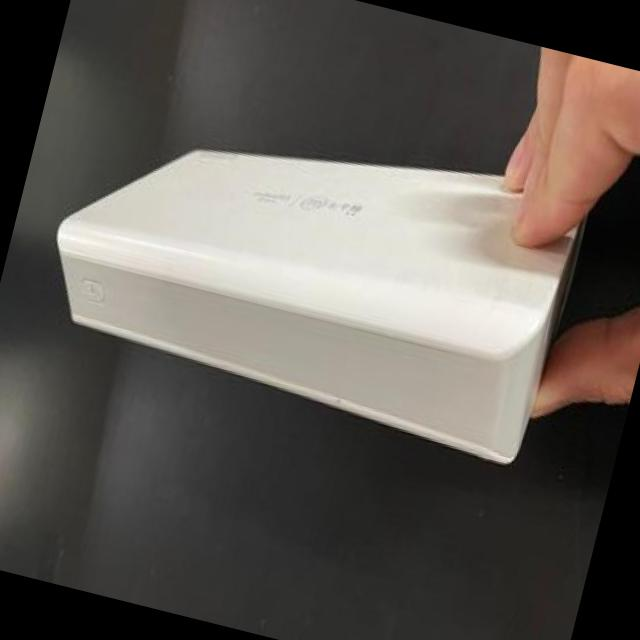power_bank: (21, 54, 604, 486)
